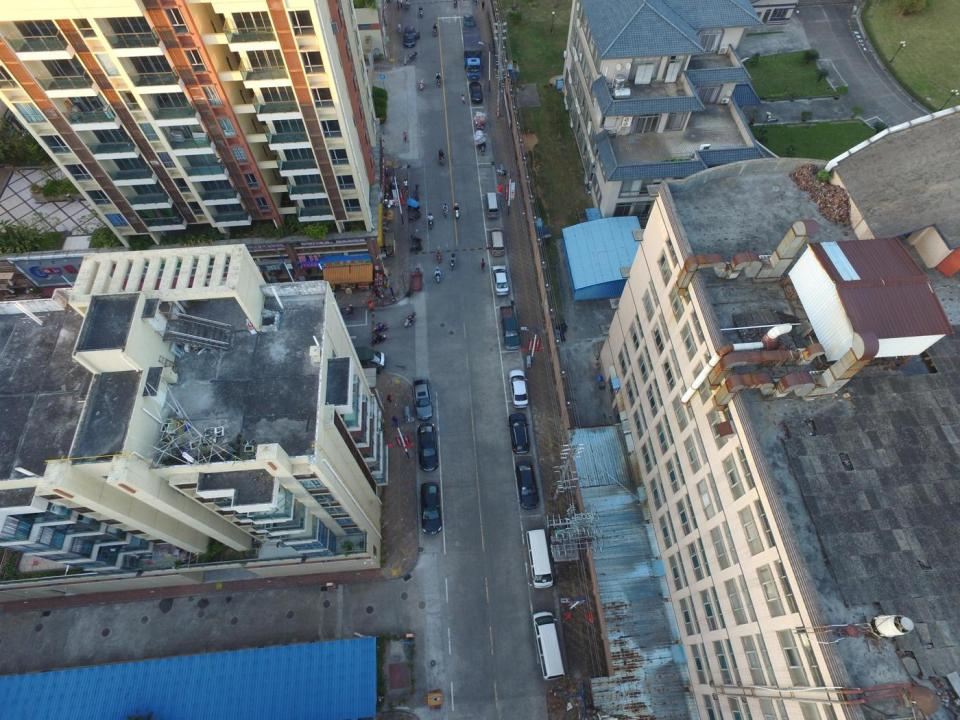car: (420, 482, 443, 535), (515, 460, 539, 510), (416, 422, 439, 472), (507, 412, 531, 454), (411, 376, 432, 420), (507, 369, 529, 408), (492, 265, 511, 296), (402, 25, 420, 47), (468, 80, 484, 104), (463, 13, 476, 28)
truck: (337, 346, 385, 370), (463, 26, 483, 80), (499, 304, 521, 350)
van: (531, 610, 566, 681), (524, 528, 552, 589), (489, 226, 505, 257), (485, 191, 499, 220)
